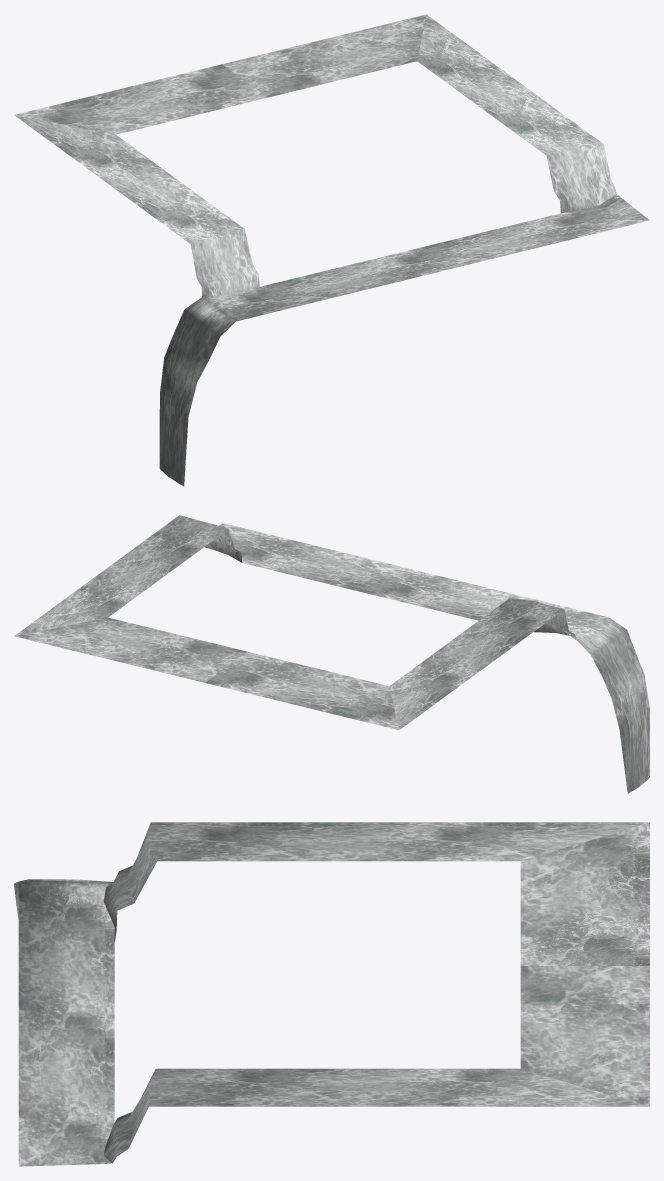
Rendered from H_shuiqu006.fbx.
The picture shows the model from 3 angles, top to bottom: view 1: azimuth 30°, elevation 25°; view 2: azimuth 150°, elevation 25°; view 3: azimuth 270°, elevation 25°; orthographic projection. The views are drawn at different scales.
Visible parts, largest first — view 1: H_shuiqu006; view 2: H_shuiqu006; view 3: H_shuiqu006.
Part boxes in pixels (x1,y1,x2,y2): H_shuiqu006: (14, 14, 649, 486); H_shuiqu006: (14, 515, 649, 793); H_shuiqu006: (14, 822, 649, 1166).
Size of the model in its own units: 3019 by 1239 by 2540.
